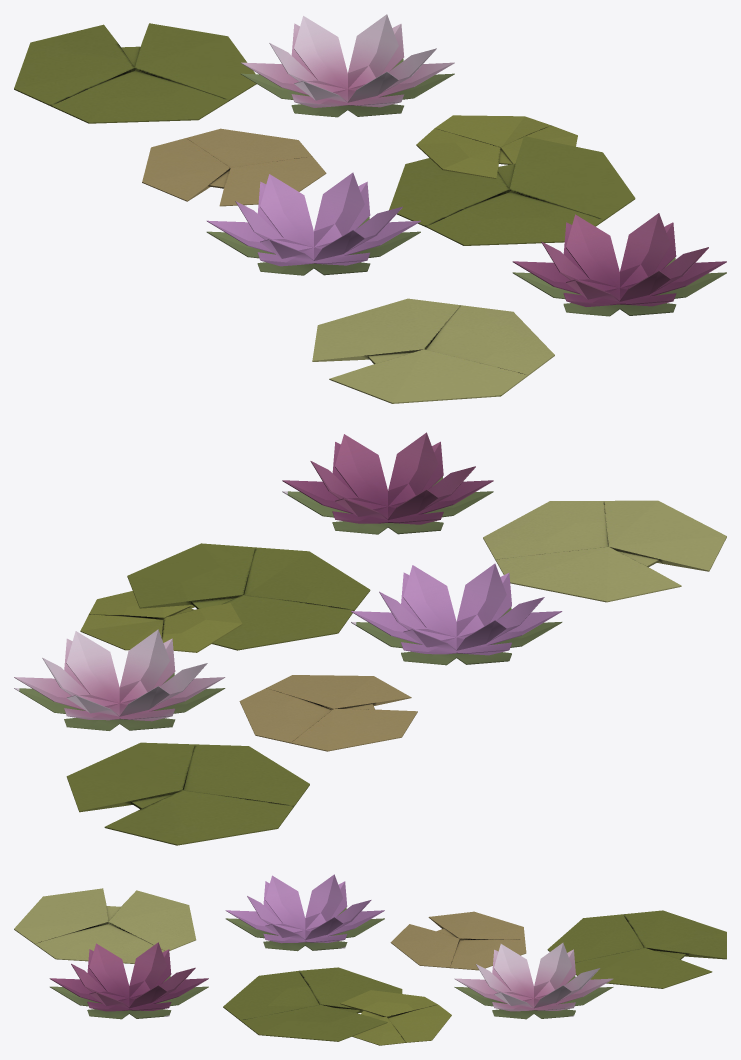
File: origami_flower.glb
The picture shows the model from 3 angles, top to bottom: view 1: azimuth 30°, elevation 25°; view 2: azimuth 150°, elevation 25°; view 3: azimuth 270°, elevation 25°; orthographic projection. The views are drawn at different scales.
Visible parts, largest first — view 1: WaterLily_Leaf.004, WaterLily_Leaf.002, WaterLily_Leaf, WaterLily.002, WaterLily, WaterLily.001, WaterLily_Leaf.003; view 2: WaterLily_Leaf.004, WaterLily_Leaf, WaterLily_Leaf.002, WaterLily.002, WaterLily, WaterLily.001, WaterLily_Leaf.003; view 3: WaterLily_Leaf.004, WaterLily_Leaf, WaterLily_Leaf.002, WaterLily.002, WaterLily, WaterLily.001, WaterLily_Leaf.003.
Part boxes in pixels (left/top/right/bottom): WaterLily_Leaf.004: left=389, top=115, right=635, bottom=245; WaterLily_Leaf.002: left=312, top=298, right=554, bottom=403; WaterLily_Leaf: left=14, top=23, right=256, bottom=123; WaterLily.002: left=512, top=213, right=726, bottom=316; WaterLily: left=206, top=172, right=420, bottom=275; WaterLily.001: left=241, top=14, right=454, bottom=117; WaterLily_Leaf.003: left=142, top=128, right=326, bottom=206; WaterLily_Leaf.004: left=80, top=543, right=370, bottom=652; WaterLily_Leaf: left=66, top=742, right=309, bottom=845; WaterLily_Leaf.002: left=483, top=500, right=726, bottom=602; WaterLily.002: left=282, top=432, right=493, bottom=534; WaterLily: left=351, top=563, right=562, bottom=665; WaterLily.001: left=14, top=629, right=225, bottom=730; WaterLily_Leaf.003: left=239, top=675, right=417, bottom=751; WaterLily_Leaf.004: left=223, top=967, right=451, bottom=1045; WaterLily_Leaf: left=547, top=910, right=726, bottom=988; WaterLily_Leaf.002: left=14, top=888, right=196, bottom=963; WaterLily.002: left=49, top=942, right=208, bottom=1019; WaterLily: left=225, top=874, right=384, bottom=951; WaterLily.001: left=454, top=942, right=613, bottom=1019; WaterLily_Leaf.003: left=390, top=911, right=526, bottom=970.
Bounding box in the file's own units: 6.94 × 0.8141 × 13.25.
Materials: 1 (1 with a texture image).
